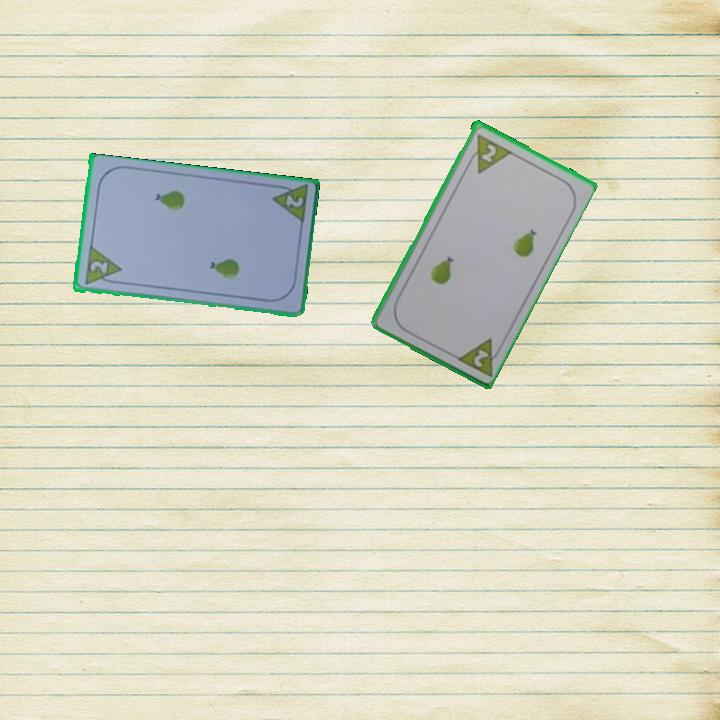2p: (477, 140, 499, 165), (469, 345, 491, 370), (86, 257, 111, 277), (282, 191, 306, 210)
